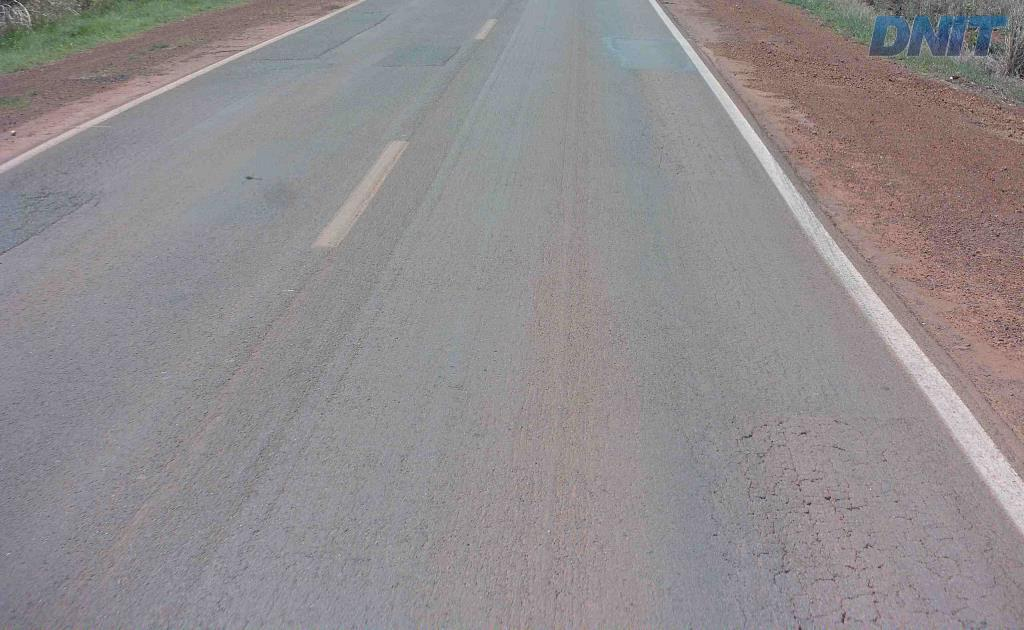crack: (763, 521, 796, 584)
